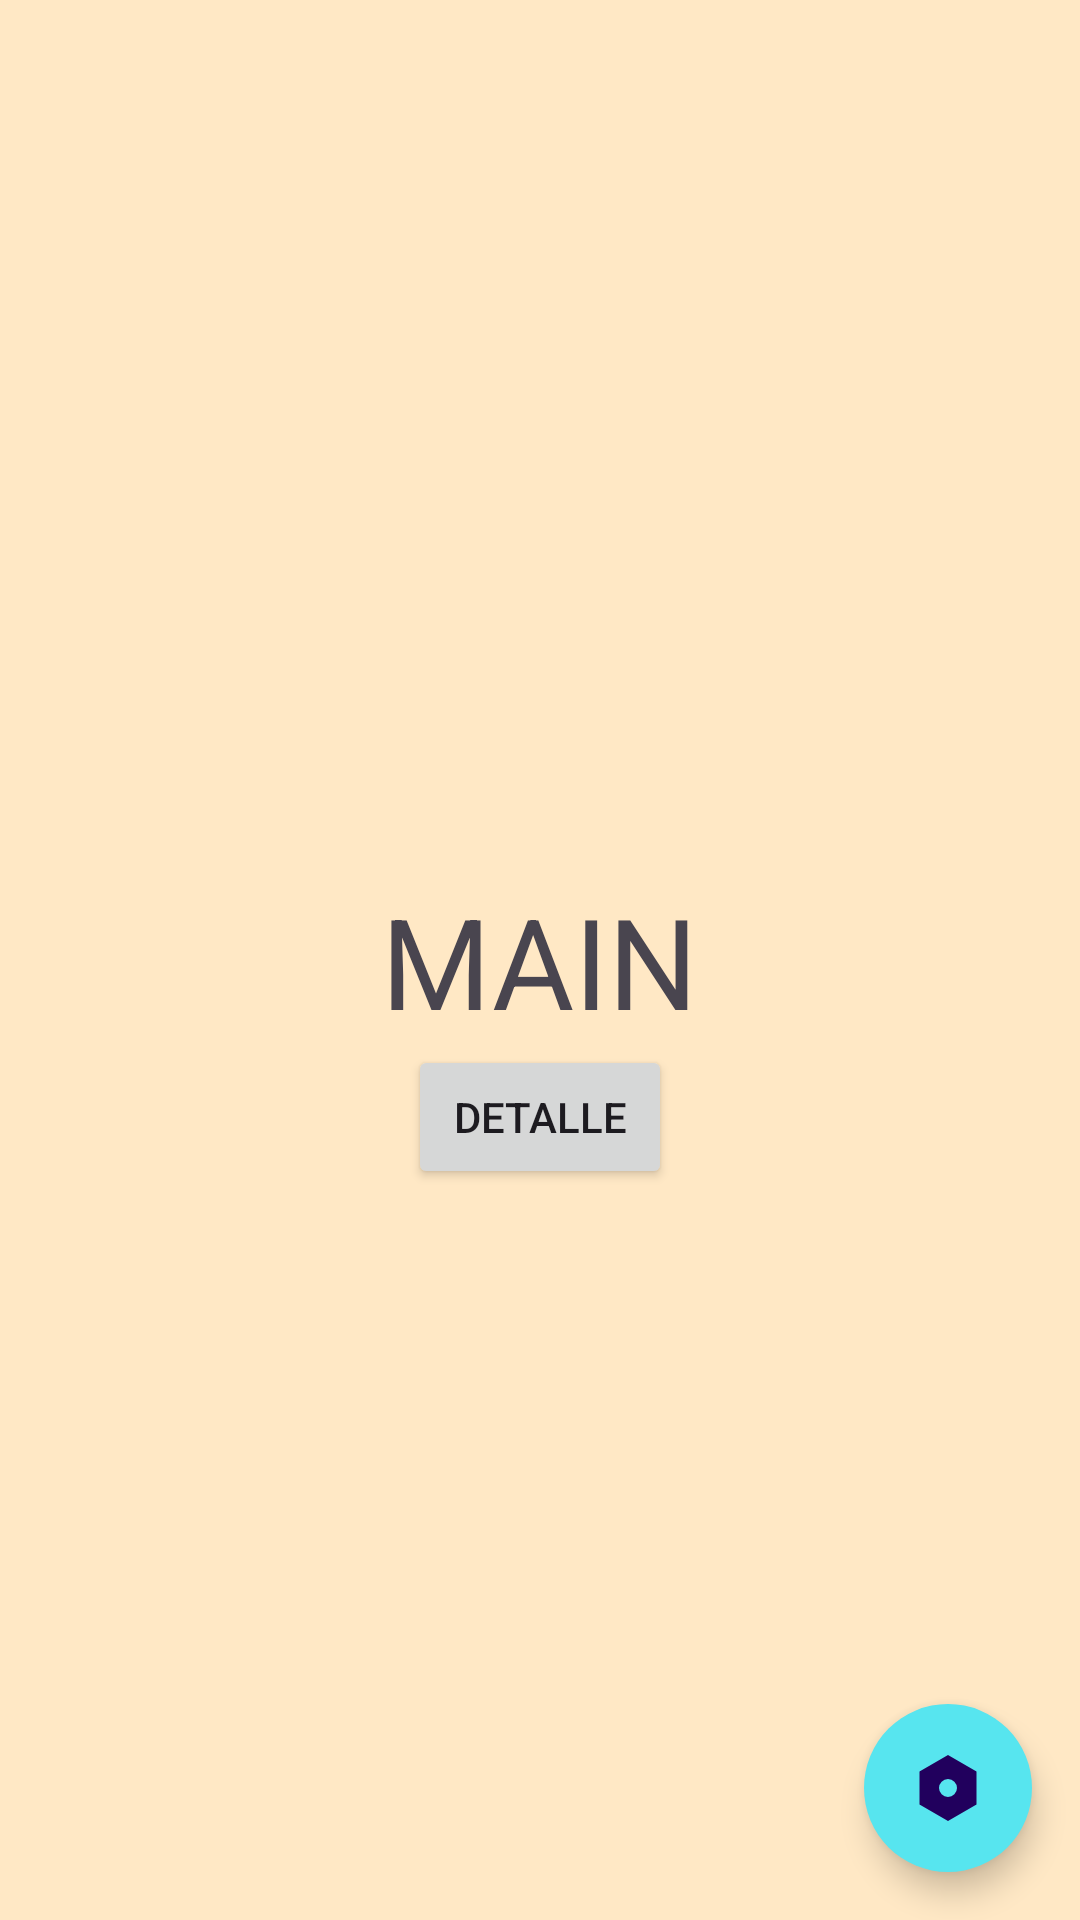

Named icons in this screenshot (1080w x 1920h) and their centers, [x,y]:
settings: [948,1788]
